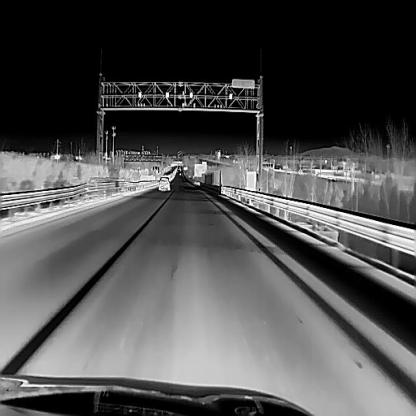car: (156, 175, 170, 190)
